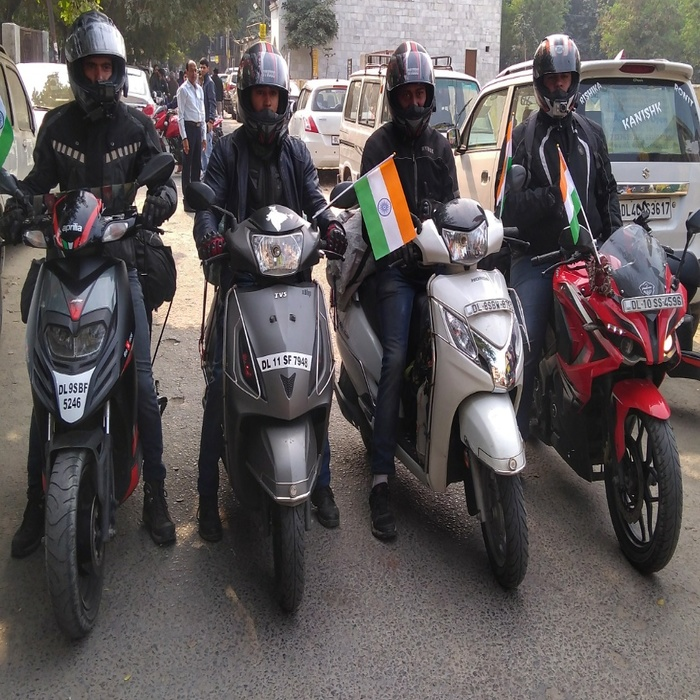h: (61, 8, 131, 122), (236, 40, 293, 143), (384, 37, 438, 138), (531, 34, 581, 119)
n: (620, 195, 677, 222), (255, 350, 316, 374), (623, 291, 684, 313), (460, 299, 517, 320), (55, 377, 89, 411)
